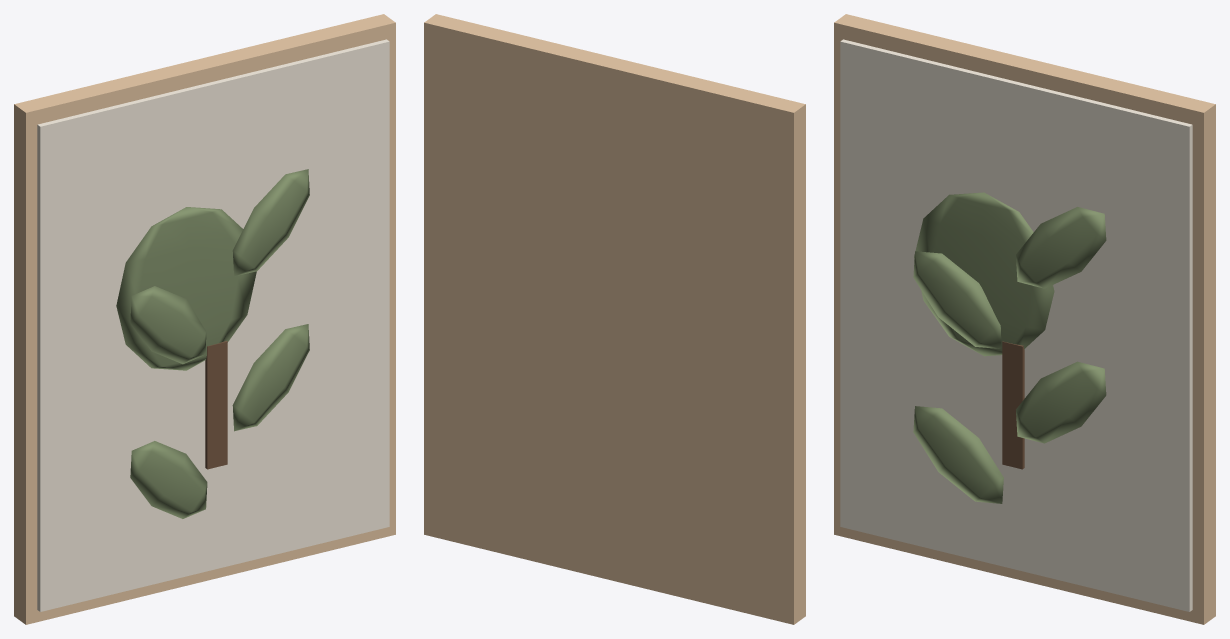
File: bathroom_ref_botanical.glb
3 renders of one model, left to right at view 1: azimuth 30°, elevation 25°; view 2: azimuth 150°, elevation 25°; view 3: azimuth 330°, elevation 25°, orthographic.
Size of the model in its own units: 0.65 by 0.86 by 0.0799.
